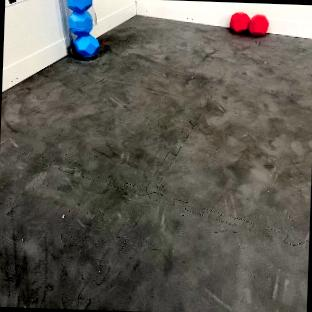V5_BLUE: (67, 0, 98, 55), (74, 34, 99, 56)
V5_RED: (231, 12, 269, 35)
